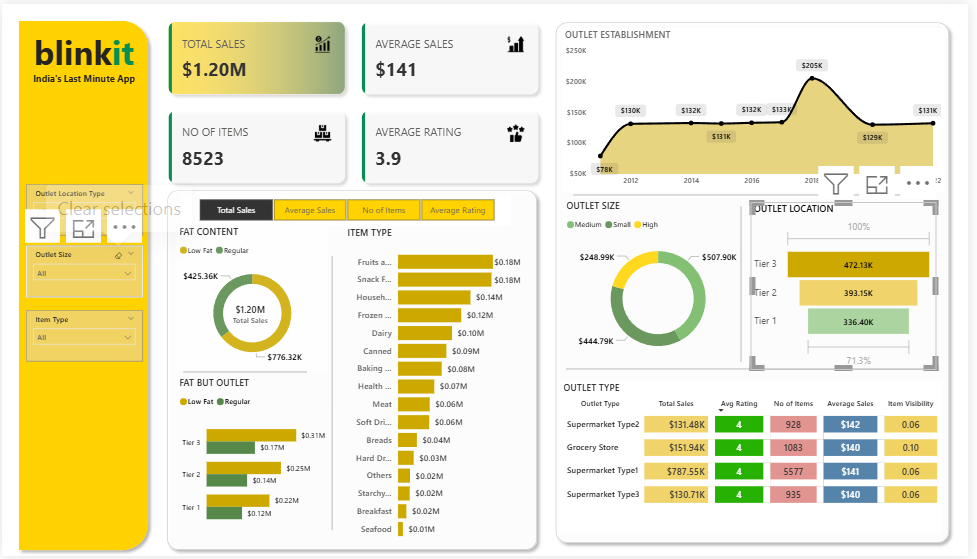

This screenshot's page, from the dashboard's own definition file:
{"tool":"powerbi","page":{"name":"Page 1","canvas":[1400,800],"ordinal":0},"visuals":[{"type":"shape","box":[15.4,14.3,205.7,785.4],"z":0},{"type":"textbox","box":[34.2,30.4,168.6,83.6],"z":1000},{"type":"textbox","box":[35.5,93.8,168.6,39.3],"z":2000},{"type":"cardVisual","fields":{"Data":["BlinkIT Grocery Data.Total Sales","BlinkIT Grocery Data.Average Sales","BlinkIT Grocery Data.No of Items","BlinkIT Grocery Data.Average Rating"]},"box":[224.7,8,570.3,269.9],"z":3000},{"type":"shape","box":[230.7,260.7,553.8,539.1],"z":4000},{"type":"donutChart","title":"FAT CONTENT","fields":{"Y":["BlinkIT Grocery Data.Total Sales"],"Category":["BlinkIT Grocery Data.Item Fat Content"]},"box":[251.8,320.2,220.5,211.6],"z":5000},{"type":"slicer","fields":{"Values":["Metrics.Metrics"]},"box":[261.1,275,476.5,44.4],"z":6000},{"type":"clusteredBarChart","title":"FAT BUT OUTLET","fields":{"Y":["BlinkIT Grocery Data.Total Sales"],"Category":["BlinkIT Grocery Data.Outlet Location Type"],"Series":["BlinkIT Grocery Data.Item Fat Content"]},"box":[251.9,539,221.1,233.2],"z":7000},{"type":"cardVisual","fields":{"Data":["BlinkIT Grocery Data.Total Sales"]},"box":[304.2,414.9,111.5,59.6],"z":8000},{"type":"shape","box":[263.2,502.7,178.7,62.1],"z":9000},{"type":"shape","box":[460.1,365,35.5,397.5],"z":10000},{"type":"barChart","title":"ITEM TYPE","fields":{"Y":["BlinkIT Grocery Data.Total Sales"],"Category":["BlinkIT Grocery Data.Item Type"]},"box":[495.5,321.1,261.1,464.7],"z":11000},{"type":"shape","box":[793.4,16.9,588.1,772.7],"z":11001},{"type":"lineChart","title":"OUTLET ESTABLISHMENT","fields":{"Category":["BlinkIT Grocery Data.Outlet Establishment Year"],"Y":["BlinkIT Grocery Data.Total Sales"]},"box":[811.1,35.5,555.1,238.3],"z":11002},{"type":"shape","box":[829.3,246.7,519.6,62.1],"z":11003},{"type":"donutChart","title":"OUTLET SIZE ","fields":{"Y":["BlinkIT Grocery Data.Total Sales"],"Category":["BlinkIT Grocery Data.Outlet Size"]},"box":[812.4,282.6,275,243.3],"z":11004},{"type":"shape","box":[1057,292.8,29.1,225.6],"z":11005},{"type":"funnel","title":"OUTLET LOCATION","fields":{"Category":["BlinkIT Grocery Data.Outlet Location Type"],"Y":["Sum(BlinkIT Grocery Data.Sales)"]},"box":[1085.7,286.8,268.7,244.6],"z":11006},{"type":"shape","box":[817,498.1,519.6,62.1],"z":11007},{"type":"pivotTable","title":"OUTLET TYPE","fields":{"Rows":["BlinkIT Grocery Data.Outlet Type"],"Values":["BlinkIT Grocery Data.Total Sales","BlinkIT Grocery Data.Avg Rating","BlinkIT Grocery Data.No of Items","BlinkIT Grocery Data.Average Sales","Avg(BlinkIT Grocery Data.Item Visibility)"]},"box":[808.6,545,553.8,220.5],"z":11008},{"type":"slicer","fields":{"Values":["BlinkIT Grocery Data.Outlet Location Type"]},"box":[35.2,260.7,169.4,74.8],"z":11009},{"type":"slicer","fields":{"Values":["BlinkIT Grocery Data.Outlet Size"]},"box":[34.1,350.9,169.4,74.8],"z":11010},{"type":"slicer","fields":{"Values":["BlinkIT Grocery Data.Item Type"]},"box":[34.1,443.3,169.4,74.8],"z":11011}]}

Visuals, with their boxes in screenshot pixels (x1, y1, x2, y2), scaled from the page's 1400x800 canvas onto the 977x559 screenshot:
shape: 11, 10, 154, 558
textbox: 24, 21, 142, 80
textbox: 25, 66, 142, 93
cardVisual - BlinkIT Grocery Data.Total Sales x BlinkIT Grocery Data.Average Sales: 157, 6, 555, 194
shape: 161, 182, 547, 558
"FAT CONTENT" donutChart: 176, 224, 330, 372
slicer - Metrics.Metrics: 182, 192, 515, 223
"FAT BUT OUTLET" clusteredBarChart: 176, 377, 330, 540
cardVisual - BlinkIT Grocery Data.Total Sales: 212, 290, 290, 332
shape: 184, 351, 308, 395
shape: 321, 255, 346, 533
"ITEM TYPE" barChart: 346, 224, 528, 549
shape: 554, 12, 964, 552
"OUTLET ESTABLISHMENT" lineChart: 566, 25, 953, 191
shape: 579, 172, 941, 216
"OUTLET SIZE " donutChart: 567, 197, 759, 367
shape: 738, 205, 758, 362
"OUTLET LOCATION" funnel: 758, 200, 945, 371
shape: 570, 348, 933, 391
"OUTLET TYPE" pivotTable: 564, 381, 951, 535
slicer - BlinkIT Grocery Data.Outlet Location Type: 25, 182, 143, 234
slicer - BlinkIT Grocery Data.Outlet Size: 24, 245, 142, 297
slicer - BlinkIT Grocery Data.Item Type: 24, 310, 142, 362
